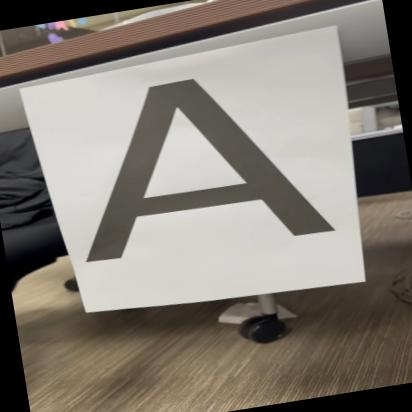seat: (33, 51, 336, 275)
